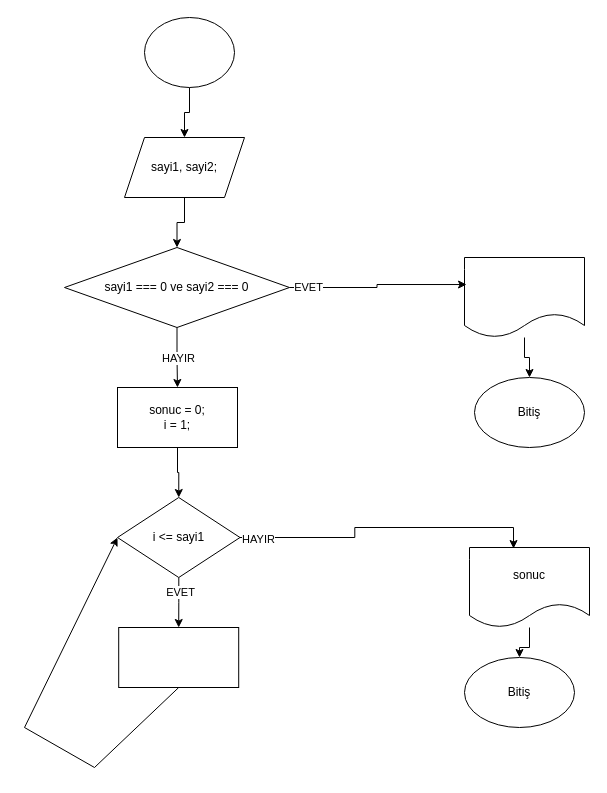
This 607x793 diagram has some shape labels left out. Here are the shapes that lost their labels. From the top down, the centre of each, then its label:
At (189,52): "Giriş".
At (524,297): "Çarpma işlemi sonucu 0".
At (178,657): "sonuc += sayi2; i++;".
